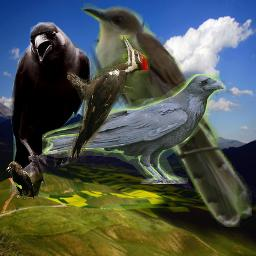Crow: (42, 74, 226, 184), (9, 22, 91, 196), (6, 161, 35, 200)
Cuckoo: (80, 2, 252, 227)
Woodpecker: (64, 35, 150, 162)
